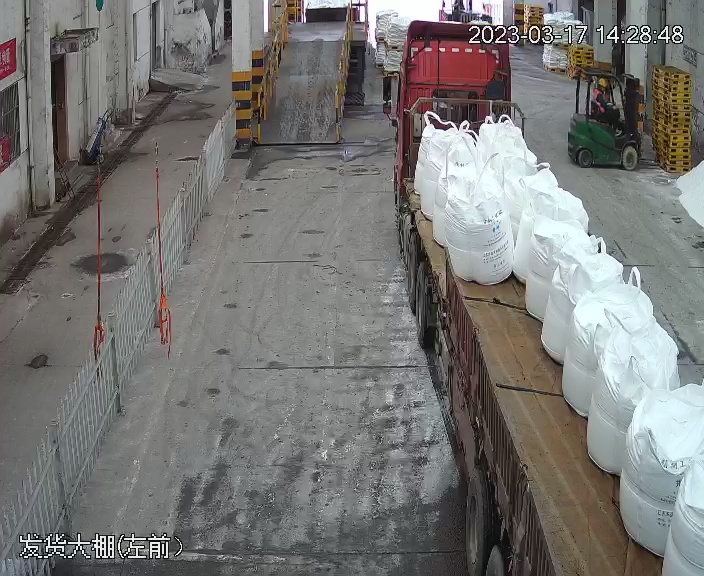head: (593, 78, 610, 104)
helmet: (597, 79, 606, 88)
people: (591, 78, 624, 137)
truck: (391, 21, 704, 576)
